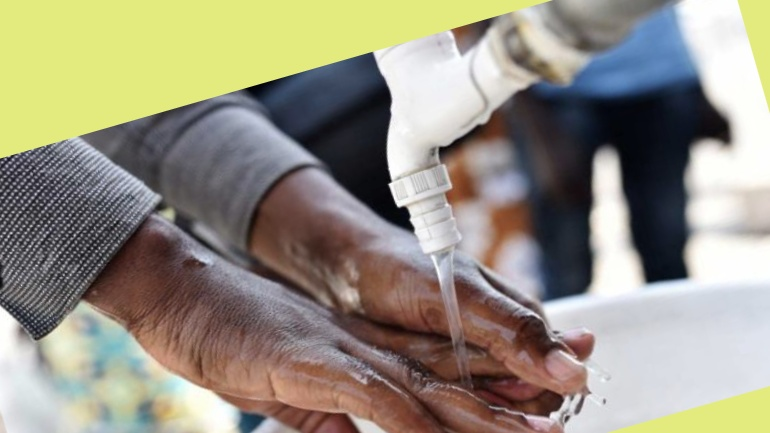washing hand: (51, 16, 667, 432)
